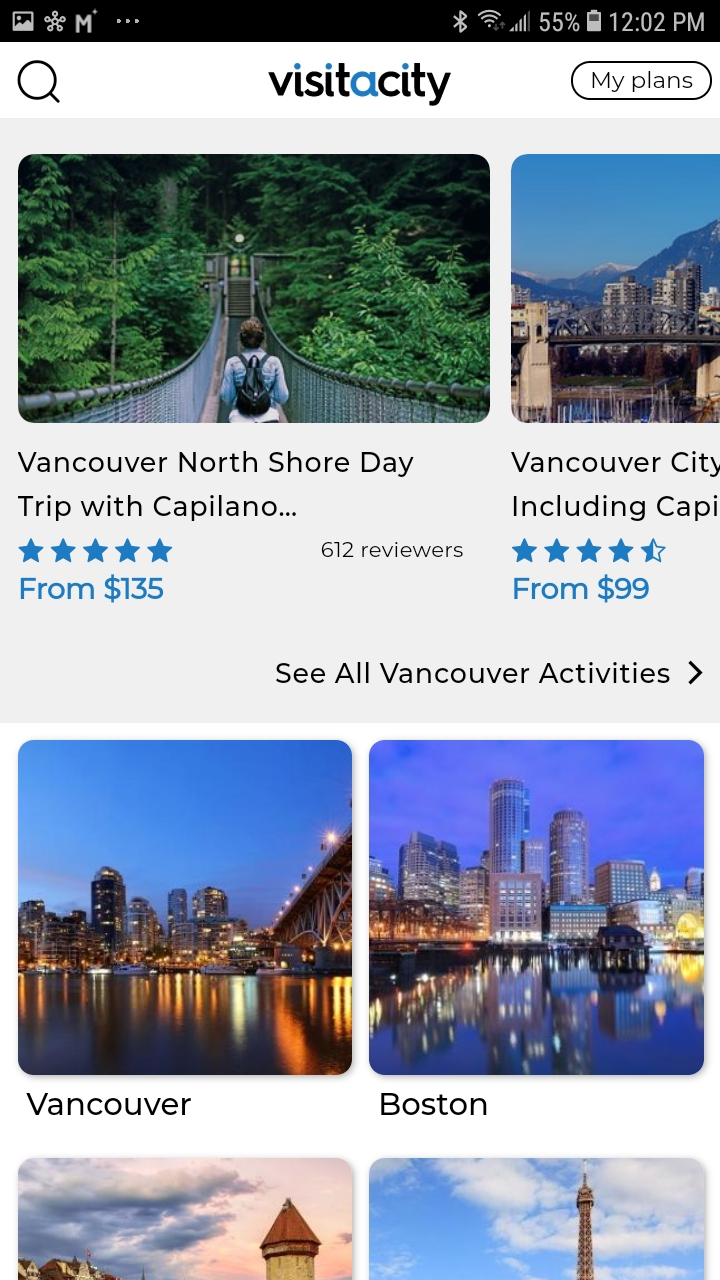Icon: (19, 538, 174, 564), (512, 538, 666, 564), (17, 61, 61, 105), (688, 661, 704, 686)
Image: (19, 155, 491, 424), (369, 740, 705, 1076), (18, 740, 353, 1076), (511, 155, 720, 424), (369, 1157, 704, 1280), (18, 1157, 353, 1280), (268, 63, 452, 107)
Text: (18, 450, 415, 522), (511, 451, 720, 523), (276, 661, 670, 684), (21, 574, 165, 604), (514, 574, 650, 604), (27, 1092, 192, 1116), (380, 1092, 487, 1116), (322, 541, 464, 559)
TextButton: (571, 61, 713, 101)
UpperTaskBar: (1, 1, 720, 43)
